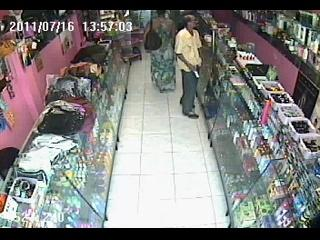Normal: (174, 14, 203, 119), (143, 10, 177, 92)
